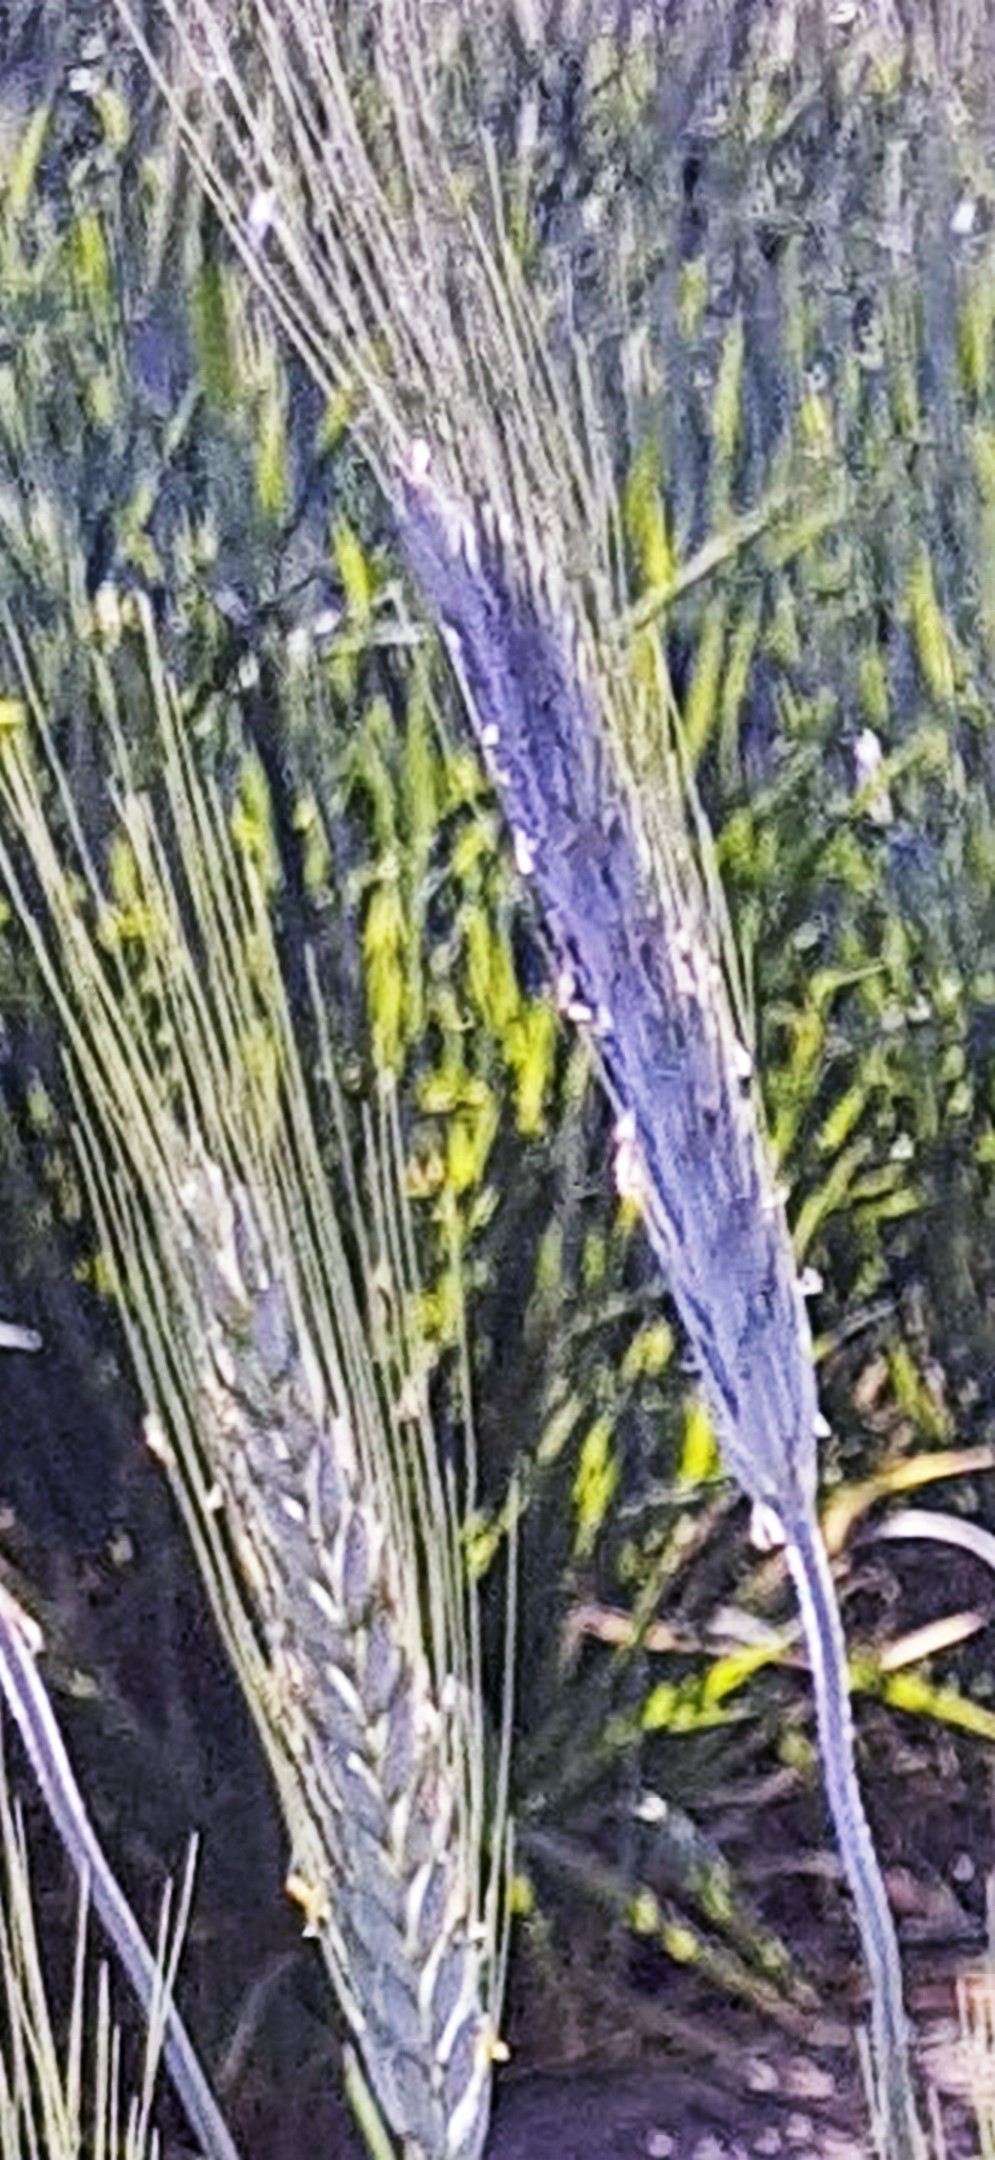Healthy Wheat: (136, 1121, 515, 2160)
